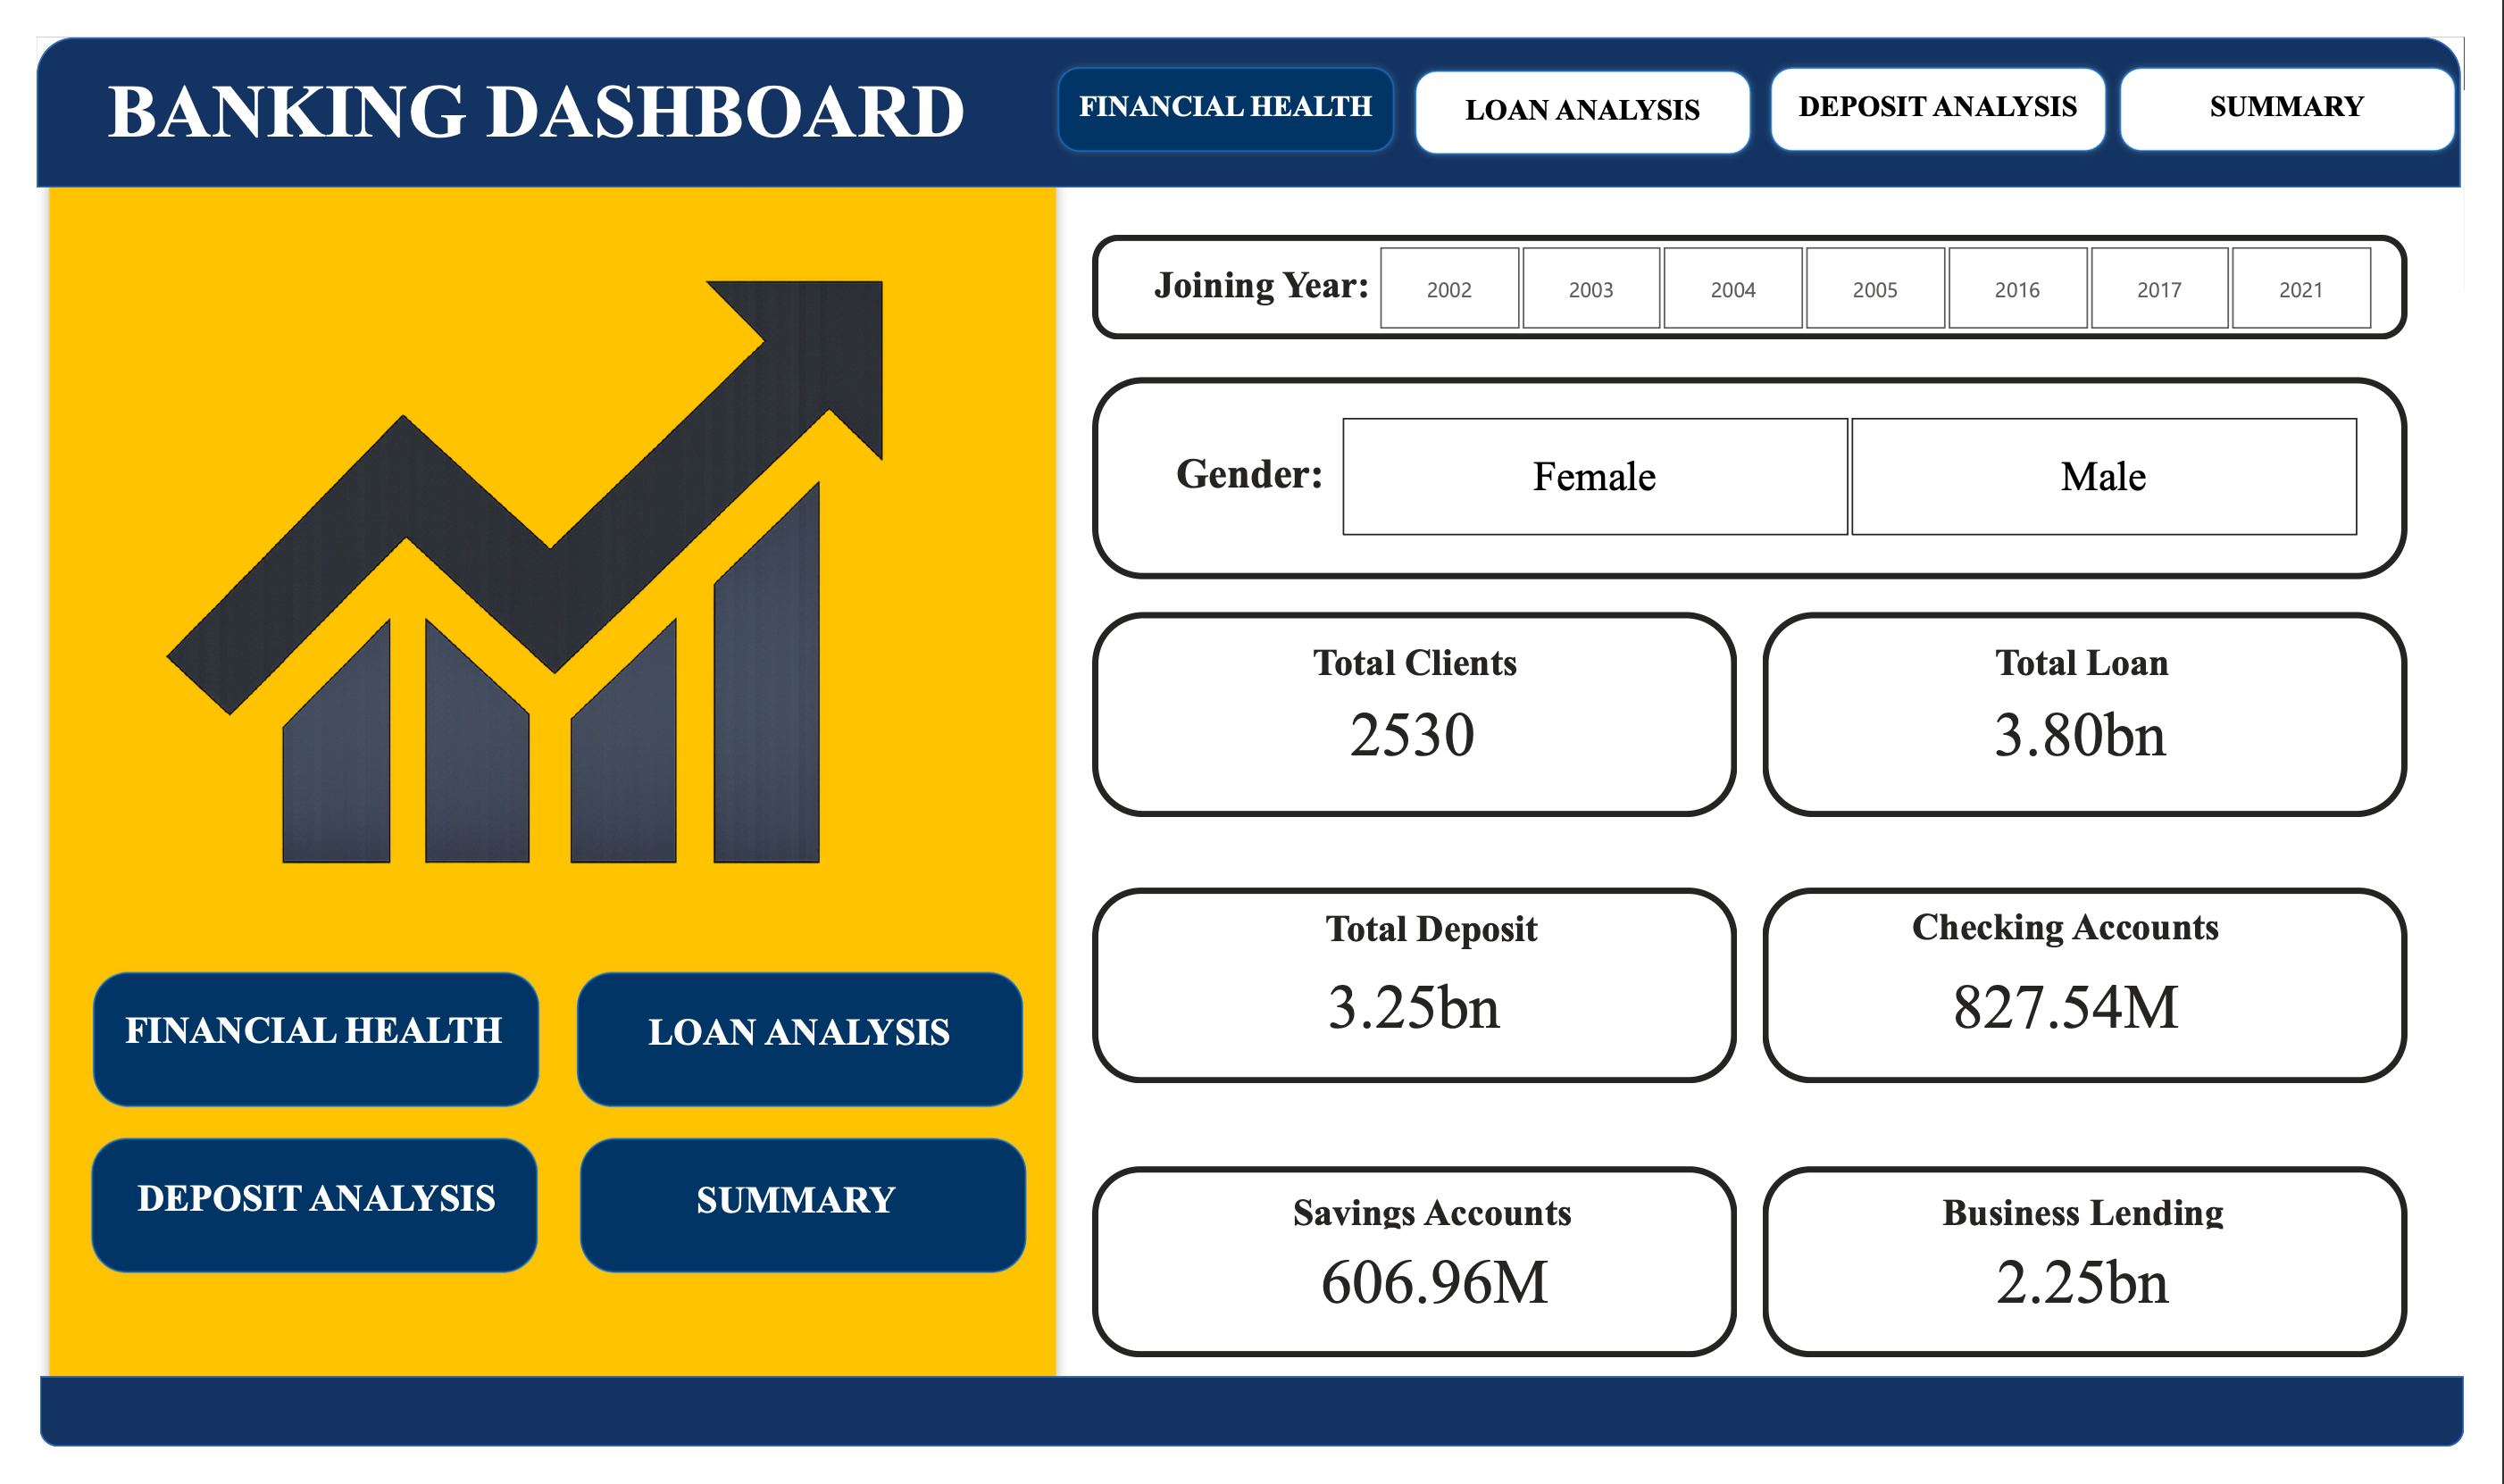

This screenshot's page, from the dashboard's own definition file:
{"tool":"powerbi","page":{"name":"Overall Financial Health","canvas":[1550,900],"ordinal":0},"visuals":[{"type":"shape","box":[0,0,659.2,900],"z":0},{"type":"image","box":[1.5,64.8,646.9,591.3],"z":1000},{"type":"shape","box":[0,0,1548.5,95.7],"z":2000},{"type":"shape","box":[647.9,14.7,223.9,61.8],"z":2000,"group":"g5"},{"type":"shape","box":[1102.9,15.4,223.9,61.8],"z":2000,"group":"g7"},{"type":"shape","box":[1325.2,15.4,223.9,61.8],"z":2000,"group":"g8"},{"type":"shape","box":[875.9,17,223.9,61.8],"z":2000,"group":"g6"},{"type":"shape","box":[32.4,592.8,292.5,93.8],"z":2000,"group":"g4"},{"type":"shape","box":[341.2,592.8,292.5,93.8],"z":2000,"group":"g1"},{"type":"shape","box":[673.9,126.3,839.8,66.4],"z":3000},{"type":"shape","box":[342.7,699.4,293.3,94.2],"z":3000,"group":"g3"},{"type":"shape","box":[673.9,217.4,839.8,128.1],"z":4000},{"type":"shape","box":[30.9,699.4,292.5,93.8],"z":4000,"group":"g2"},{"type":"textbox","box":[0,13.9,639.1,81.8],"z":5000},{"type":"textbox","box":[647.3,27.6,225.4,40.1],"z":5000,"group":"g5"},{"type":"textbox","box":[1102.3,28.3,225.4,40.1],"z":5000,"group":"g7"},{"type":"textbox","box":[1324.6,28.3,225.4,40.1],"z":5000,"group":"g8"},{"type":"textbox","box":[875.3,29.9,225.4,40.1],"z":5000,"group":"g6"},{"type":"textbox","box":[42,615.5,270.2,49.4],"z":5000,"group":"g4"},{"type":"textbox","box":[358.8,616.6,257.3,49.3],"z":5000,"group":"g1"},{"type":"shape","box":[673.9,367.1,412.2,131.2],"z":6000},{"type":"textbox","box":[359.7,724.1,256.3,47.9],"z":6000,"group":"g3"},{"type":"shape","box":[1101.5,367.1,412.2,131.2],"z":7000},{"type":"textbox","box":[50.1,723.2,257.3,49.3],"z":7000,"group":"g2"},{"type":"shape","box":[1101.5,543.1,412.2,125],"z":8000},{"type":"shape","box":[673.9,543.1,412.2,125],"z":9000},{"type":"shape","box":[1101.5,720.7,412.2,122],"z":10000},{"type":"shape","box":[673.9,720.7,412.2,122],"z":11000},{"type":"textbox","box":[689.3,257.5,171.4,46.3],"z":12000},{"type":"textbox","box":[784.1,380.9,192.7,43.3],"z":13000},{"type":"textbox","box":[1197.9,732,218.1,43.3],"z":14000},{"type":"textbox","box":[784.1,732,215.1,43.3],"z":15000},{"type":"textbox","box":[1166.5,549.7,258.5,43.3],"z":16000},{"type":"textbox","box":[794.5,551.2,192.7,43.3],"z":17000},{"type":"textbox","box":[1209.9,380.9,192.7,43.3],"z":18000},{"type":"textbox","box":[704.8,140.2,155.9,40.1],"z":19000},{"type":"slicer","fields":{"Values":["risk_analysis client_data.genderid"]},"box":[808.2,235.9,697.8,89.5],"z":20000},{"type":"cardVisual","fields":{"Data":["Count(risk_analysis client_data.name)"]},"box":[782,405.7,194.5,75.6],"z":21000},{"type":"cardVisual","fields":{"Data":["risk_analysis client_data.TOTAL DEPOSIT"]},"box":[763.4,580.2,234.7,75.6],"z":22000},{"type":"cardVisual","fields":{"Data":["risk_analysis client_data.TOTOAL LOAN"]},"box":[1157.1,405.7,298,75.6],"z":23000},{"type":"cardVisual","fields":{"Data":["Sum(risk_analysis client_data.checking_accounts)"]},"box":[1192.6,580.2,206.9,75.6],"z":24000},{"type":"cardVisual","fields":{"Data":["Sum(risk_analysis client_data.business_lending)"]},"box":[1189.5,756.2,234.7,75.6],"z":25000},{"type":"cardVisual","fields":{"Data":["Sum(risk_analysis client_data.saving_accounts)"]},"box":[775.8,756.2,234.7,75.6],"z":26000},{"type":"slicer","fields":{"Values":["risk_analysis client_data.YEAR OF JOINING"]},"box":[831.9,127,683.1,65.7],"z":27000},{"type":"group","id":"g1","title":"Group 1","box":[341.2,592.8,291.8,94.2],"z":28000},{"type":"group","id":"g2","title":"Group 2","box":[30.9,699.4,291.8,94.2],"z":29000},{"type":"group","id":"g3","title":"Group 3","box":[342.7,699.4,293.3,94.2],"z":30000},{"type":"group","id":"g4","title":"Group 1","box":[32.4,592.8,291.8,94.2],"z":31000},{"type":"shape","box":[1.5,855.3,1548.5,44.8],"z":32000},{"type":"group","id":"g5","title":"Group 1","box":[647.3,14.7,225.4,61.8],"z":33000},{"type":"group","id":"g6","title":"Group 1","box":[875.3,17,225.4,61.8],"z":34000},{"type":"group","id":"g7","title":"Group 1","box":[1102.3,15.4,225.4,61.8],"z":35000},{"type":"group","id":"g8","title":"Group 1","box":[1324.6,15.4,225.4,61.8],"z":36000},{"type":"actionButton","box":[875.3,13.9,223.9,63.3],"z":37000},{"type":"actionButton","box":[1103.8,13.9,223.9,63.3],"z":38000},{"type":"actionButton","box":[1326.1,13.9,223.9,63.3],"z":39000},{"type":"actionButton","box":[345.8,592.8,287.2,92.6],"z":40000},{"type":"actionButton","box":[345.8,700.9,287.2,92.6],"z":41000},{"type":"actionButton","box":[34,699.4,287.2,92.6],"z":42000}]}

Visuals, with their boxes in screenshot pixels (x1, y1, x2, y2), scaled from the page's 1550x900 canvas onto the 2504x1484 screenshot:
shape: 0 0 1065 1483
image: 3 107 1048 1082
shape: 0 0 2501 158
shape: 1047 24 1408 126
shape: 1782 25 2143 128
shape: 2141 25 2502 128
shape: 1415 28 1777 130
shape: 53 978 525 1132
shape: 551 978 1023 1132
shape: 1089 208 2445 318
shape: 554 1154 1028 1309
shape: 1089 358 2445 570
shape: 50 1154 522 1308
textbox: 0 23 1032 158
textbox: 1046 46 1410 112
textbox: 1781 46 2145 113
textbox: 2140 46 2503 113
textbox: 1414 49 1778 115
textbox: 68 1015 505 1096
textbox: 580 1017 996 1098
shape: 1089 605 1755 821
textbox: 581 1194 995 1273
shape: 1780 605 2445 821
textbox: 81 1193 497 1274
shape: 1780 896 2445 1102
shape: 1089 896 1755 1102
shape: 1780 1188 2445 1389
shape: 1089 1188 1755 1389
textbox: 1114 425 1390 501
textbox: 1266 628 1578 699
textbox: 1935 1207 2288 1279
textbox: 1266 1207 1615 1279
textbox: 1884 906 2302 978
textbox: 1283 909 1595 980
textbox: 1955 628 2266 699
textbox: 1139 231 1390 297
slicer - risk_analysis client_data.genderid: 1306 389 2433 537
cardVisual - Count(risk_analysis client_data.name): 1264 669 1578 794
cardVisual - risk_analysis client_data.TOTAL DEPOSIT: 1233 956 1613 1081
cardVisual - risk_analysis client_data.TOTOAL LOAN: 1869 669 2350 794
cardVisual - Sum(risk_analysis client_data.checking_accounts): 1926 956 2261 1081
cardVisual - Sum(risk_analysis client_data.business_lending): 1922 1246 2300 1371
cardVisual - Sum(risk_analysis client_data.saving_accounts): 1253 1246 1632 1371
slicer - risk_analysis client_data.YEAR OF JOINING: 1344 210 2448 318
"Group 1" group: 551 978 1022 1133
"Group 2" group: 50 1154 522 1309
"Group 3" group: 554 1154 1028 1309
"Group 1" group: 53 978 523 1133
shape: 3 1410 2503 1483
"Group 1" group: 1046 24 1410 126
"Group 1" group: 1414 28 1778 130
"Group 1" group: 1781 25 2145 128
"Group 1" group: 2140 25 2503 128
actionButton: 1414 23 1775 128
actionButton: 1783 23 2145 128
actionButton: 2142 23 2503 128
actionButton: 559 978 1022 1130
actionButton: 559 1155 1022 1308
actionButton: 55 1154 519 1306
